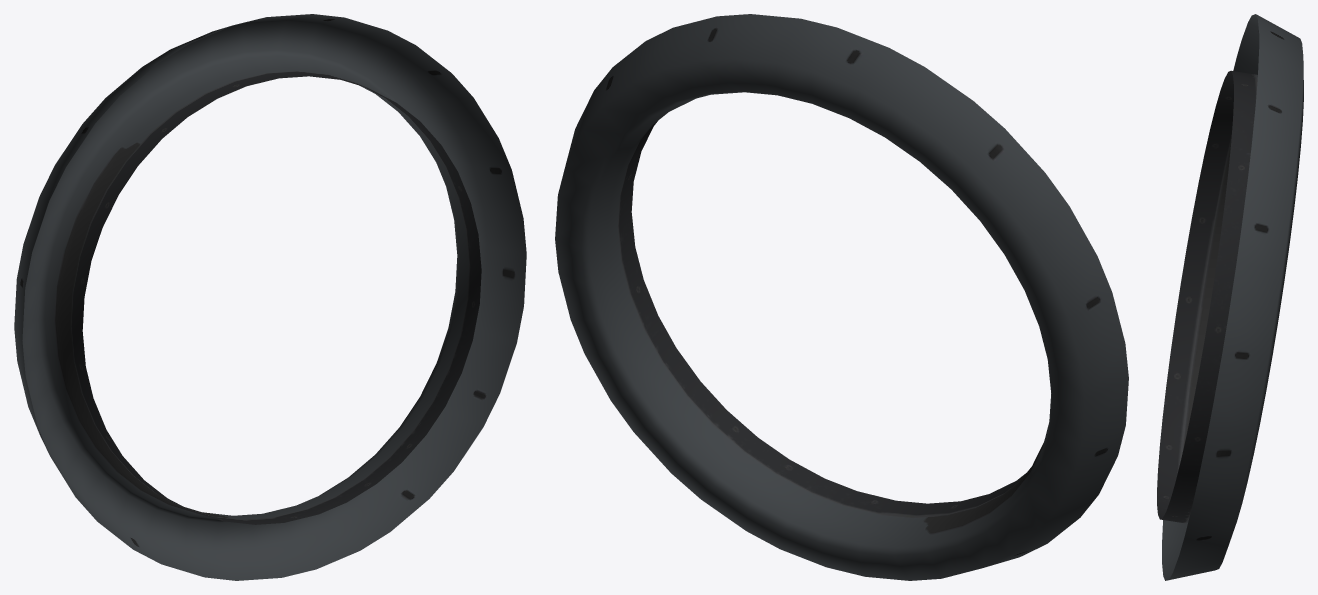
File: window.glb
3 views of the same model, side by side, from view 1: azimuth 30°, elevation 25°; view 2: azimuth 150°, elevation 25°; view 3: azimuth 270°, elevation 25° (orthographic). The views are drawn at different scales.
Parts seen in each view (by area): view 1: Illuminatior_low; view 2: Illuminatior_low; view 3: Illuminatior_low.
Part boxes in pixels (<box>): Illuminatior_low: <box>14,14,526,580</box>; Illuminatior_low: <box>555,14,1128,580</box>; Illuminatior_low: <box>1157,14,1303,580</box>.
Size of the model in its own units: 0.6944 by 0.6842 by 0.1777.
1 material, 1 textured.
